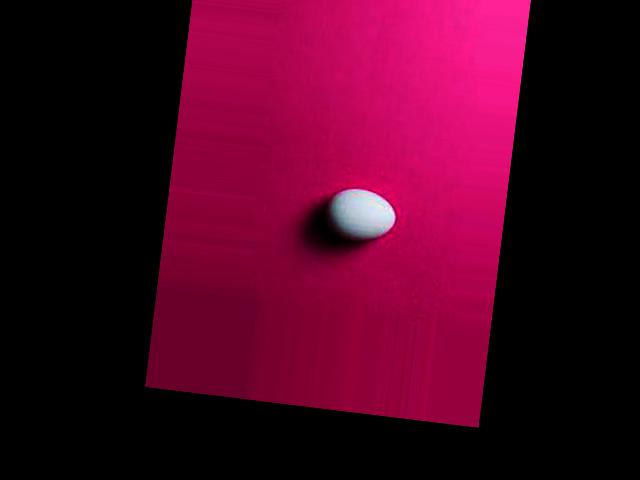egg: (321, 184, 398, 244)
